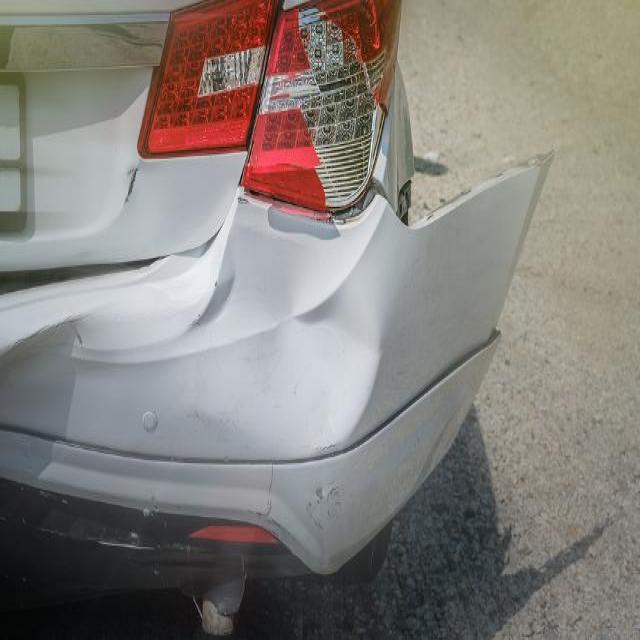Dent: (320, 328, 497, 454), (495, 506, 610, 606), (0, 426, 72, 504), (182, 398, 255, 444), (84, 522, 172, 552), (416, 185, 472, 218), (260, 462, 275, 518), (156, 538, 200, 553), (142, 494, 160, 518), (313, 439, 337, 453), (489, 325, 502, 343), (73, 327, 83, 349), (326, 483, 338, 499), (314, 484, 324, 499), (127, 531, 138, 544), (126, 165, 136, 178), (526, 156, 538, 165), (424, 213, 432, 220), (60, 496, 68, 502), (213, 277, 218, 285)
